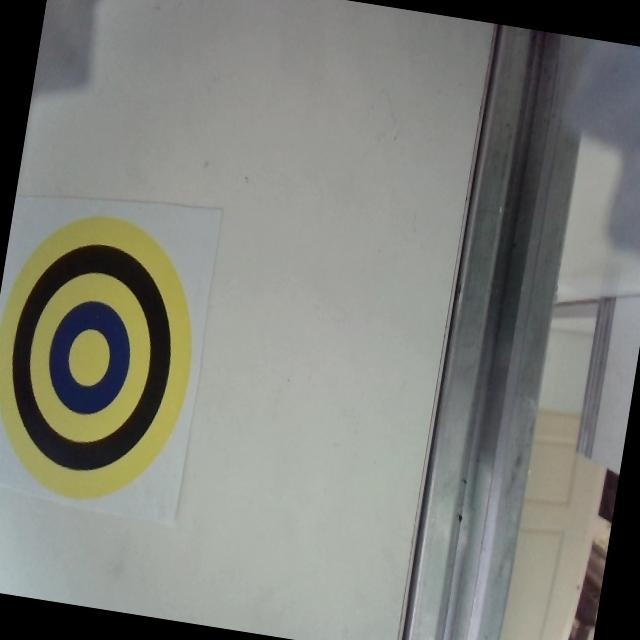cogn: (0, 200, 215, 515)
